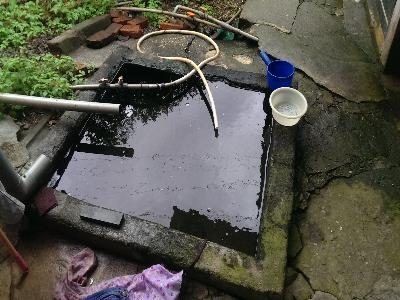bowl: (268, 85, 309, 127), (264, 58, 297, 89)
box: (45, 58, 278, 256)
